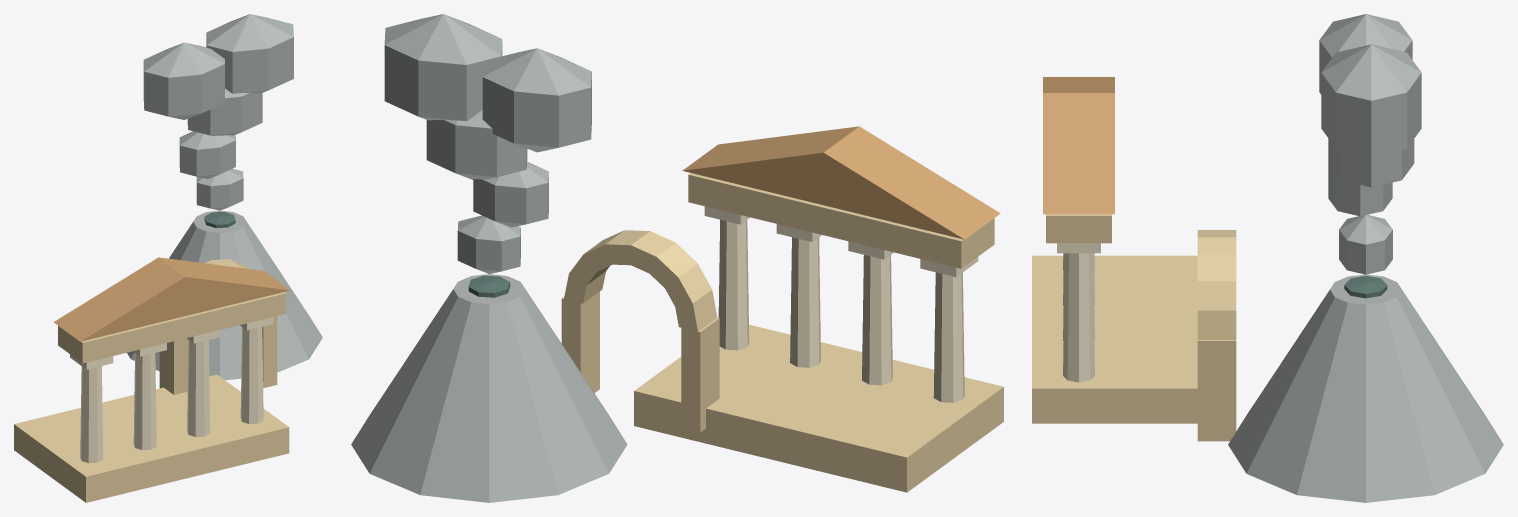
File: pompeii-79-ce.b63b6fe287ab.glb
3 renders of one model, left to right at view 1: azimuth 30°, elevation 25°; view 2: azimuth 150°, elevation 25°; view 3: azimuth 270°, elevation 25°, orthographic. The views are drawn at different scales.
Parts seen in each view (by area): view 1: pompeii-79-ce; view 2: pompeii-79-ce; view 3: pompeii-79-ce.
Boxes of the visible parts, x1,y1,x2,y2 form: pompeii-79-ce: (14,14,322,502); pompeii-79-ce: (351,14,1003,502); pompeii-79-ce: (1032,14,1503,502).
Size of the model in its own units: 1 by 0.8898 by 0.8724.
